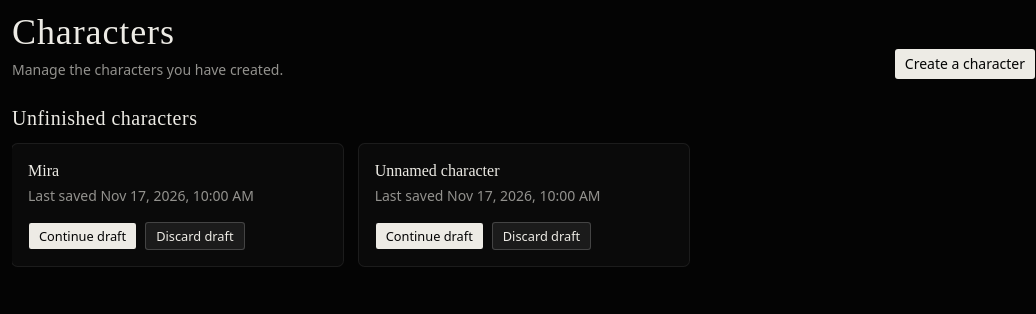
it: CharactersRoute › with unfinished character drafts › reports a failed discard
The image size is (1036, 314).
Click the button with aria-label "Discard draft: Mira" at (195, 236), box [145,222,244,250]
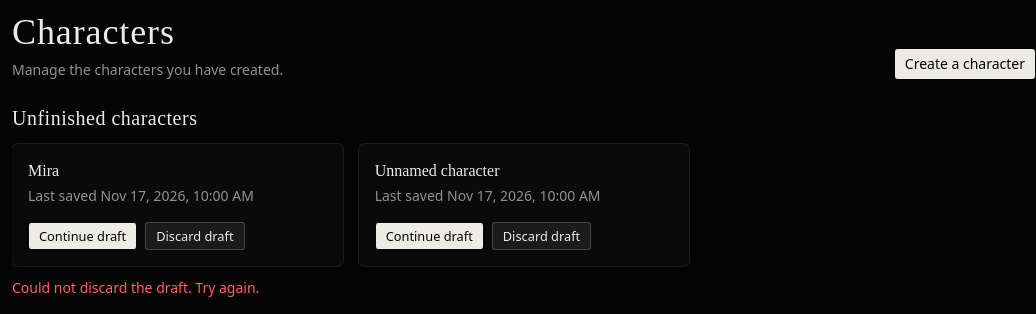
Check: the text "Could not discard the draft. Try again." is shown, box [12,278,259,297]
